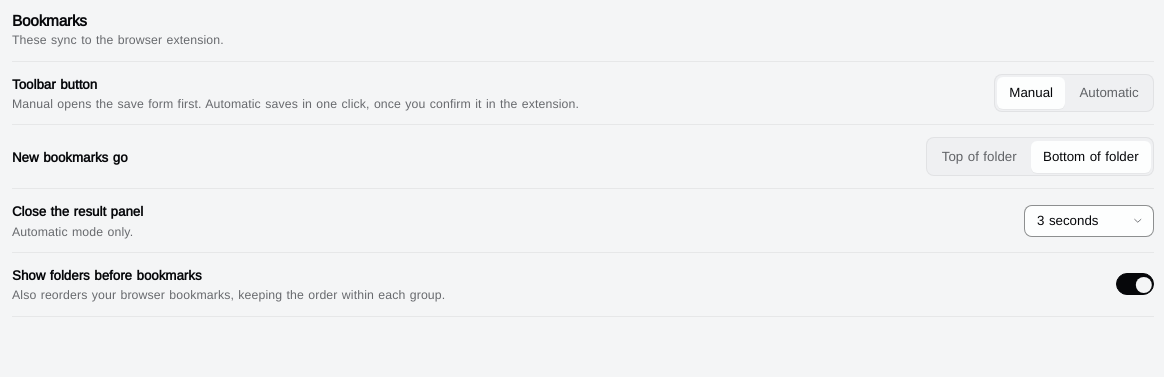
it: does not claim persistence or issue a mutation if browser storage fails
Click the switch.
click(1135, 284)  # box left=1116, top=273, right=1154, bottom=295
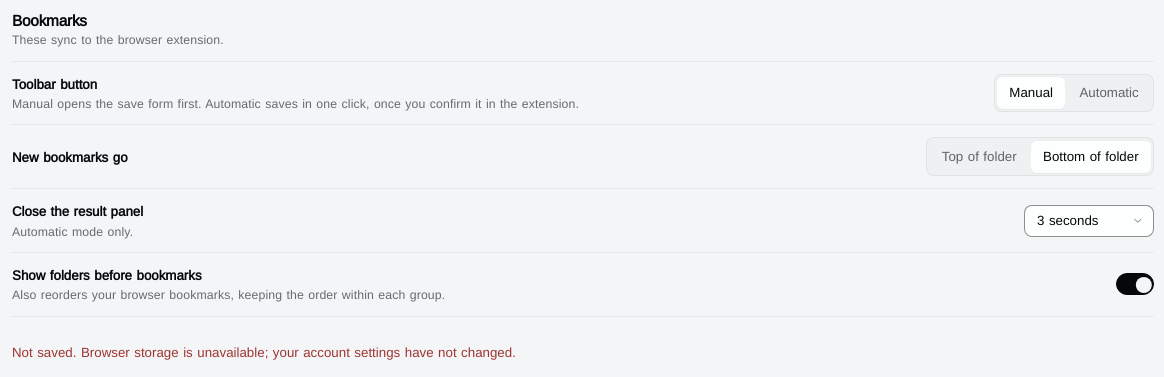
Check: the message shows "Not saved. Browser storage is unavailable", box left=12, top=344, right=516, bottom=360
